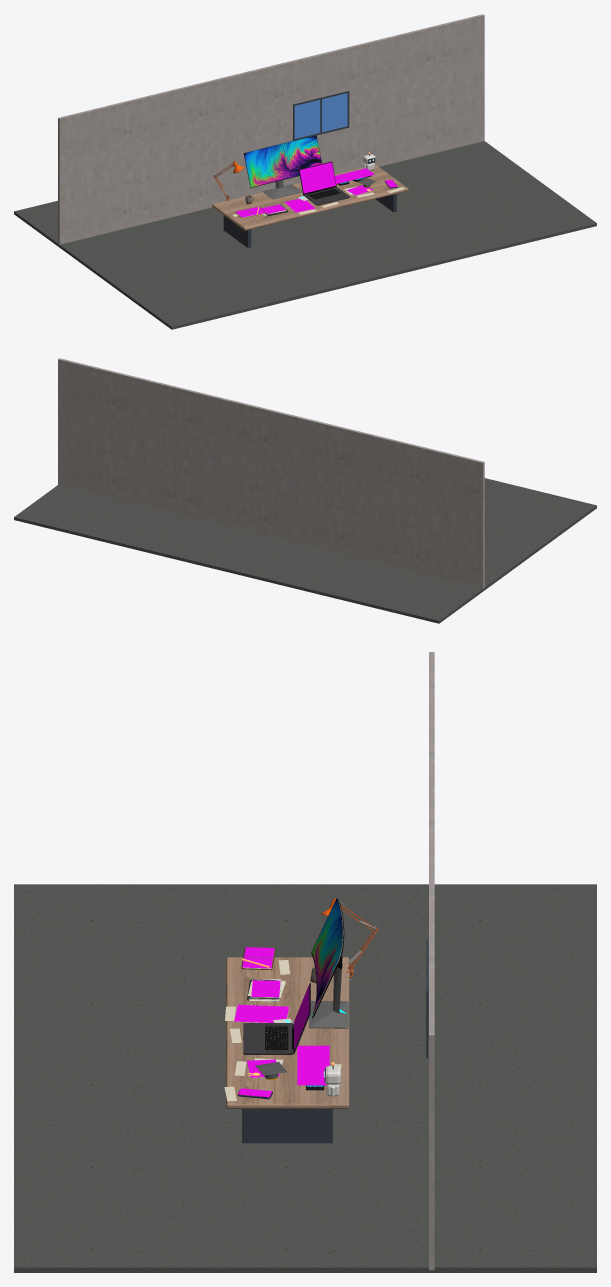
The model's file is workstation-mobile.glb.
3 views of the same model, one above another, from view 1: azimuth 30°, elevation 25°; view 2: azimuth 150°, elevation 25°; view 3: azimuth 270°, elevation 25° (orthographic). The views are drawn at different scales.
Parts seen in each view (by area): view 1: room-back-wall, room-floor, desk-top, monitor-portfolio-screen, room-window-sky, surface-work, desk-leg; view 2: room-back-wall, room-floor; view 3: room-floor, desk-top, room-back-wall, desk-leg.001, monitor-portfolio-screen, overview-monitor.002, surface-skills, surface-profile.
Boxes of the visible parts, left/top/right/bottom form: room-back-wall: left=58, top=14, right=484, bottom=245; room-floor: left=14, top=141, right=596, bottom=329; desk-top: left=212, top=164, right=408, bottom=230; monitor-portfolio-screen: left=244, top=136, right=321, bottom=187; room-window-sky: left=294, top=93, right=347, bottom=138; surface-work: left=299, top=162, right=335, bottom=193; desk-leg: left=223, top=215, right=251, bottom=247; room-back-wall: left=58, top=358, right=484, bottom=589; room-floor: left=14, top=478, right=596, bottom=623; room-floor: left=14, top=884, right=596, bottom=1272; desk-top: left=226, top=957, right=349, bottom=1108; room-back-wall: left=429, top=652, right=434, bottom=1270; desk-leg.001: left=242, top=1109, right=332, bottom=1143; monitor-portfolio-screen: left=312, top=898, right=342, bottom=1011; overview-monitor.002: left=309, top=967, right=348, bottom=1028; surface-skills: left=297, top=1045, right=329, bottom=1085; surface-profile: left=234, top=1004, right=288, bottom=1022.
Size of the model in its own units: 28 by 8.09 by 18.
Materials: 86 (21 with a texture image).
